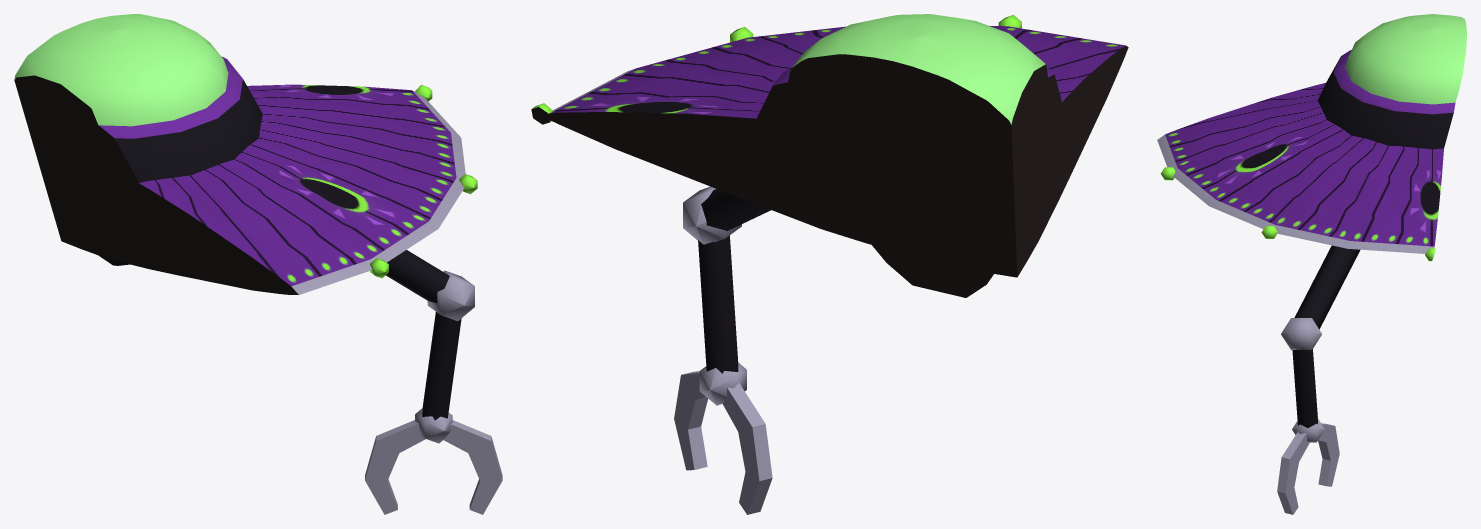
File: grappler_debris3.obj
3 renders of one model, left to right at view 1: azimuth 30°, elevation 25°; view 2: azimuth 150°, elevation 25°; view 3: azimuth 270°, elevation 25°, orthographic. The views are drawn at different scales.
Visible parts, largest first — view 1: disc, dome, hub, claw, arm, joint, rim_light; view 2: disc, dome, hub, arm, claw, winch, joint, rim_light; view 3: disc, dome, hub, arm, claw, joint, rim_light.
Boxes of the visible parts, x1,y1,x2,y2 form: disc: (31,84,465,294); dome: (14,14,228,126); hub: (18,56,262,182); claw: (365,420,502,514); arm: (386,250,461,420); joint: (415,270,474,443); rim_light: (370,84,477,278); disc: (542,26,1128,277); dome: (787,14,1048,136); hub: (755,68,1061,178); arm: (698,189,770,373); claw: (674,371,772,514); winch: (867,232,1000,297); joint: (683,186,746,405); rim_light: (531,15,1021,124); disc: (1157,83,1443,253); dome: (1345,14,1466,104); hub: (1318,50,1455,149); arm: (1292,245,1360,427); claw: (1277,423,1339,514); joint: (1281,318,1324,442); rim_light: (1160,167,1435,261).
Bounding box in the file's own units: 13.17 × 15.15 × 11.19.
7 materials, 1 textured.
